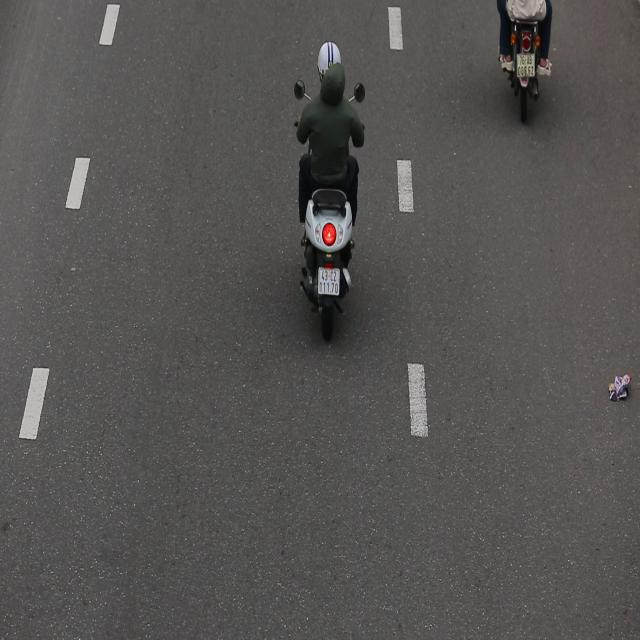motorbike: (286, 22, 377, 334)
